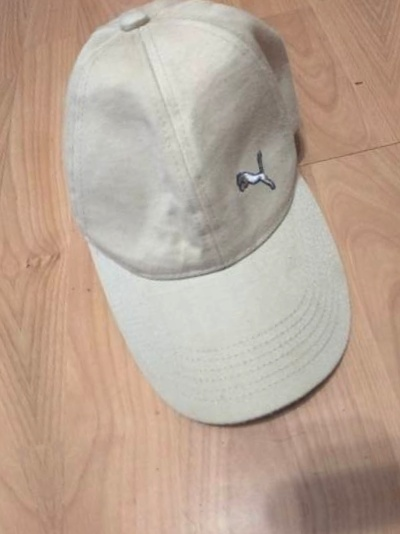Hat: (15, 0, 400, 451)
